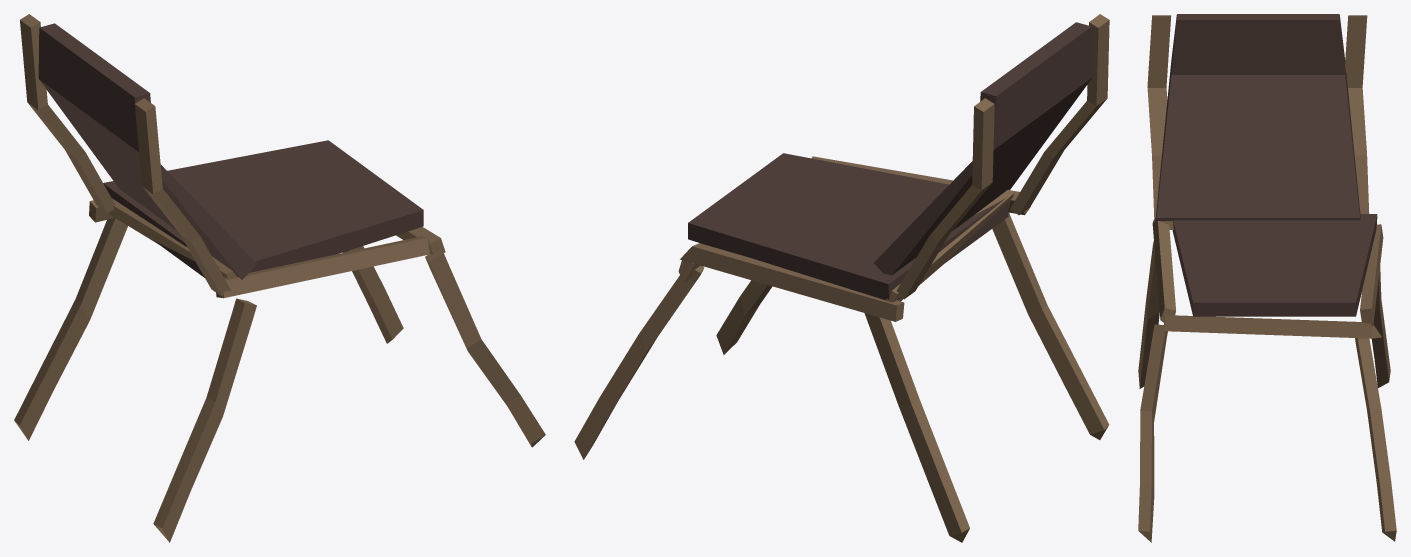
File: chair.fbx
3 renders of one model, left to right at view 1: azimuth 30°, elevation 25°; view 2: azimuth 150°, elevation 25°; view 3: azimuth 270°, elevation 25°, orthographic. The views are drawn at different scales.
Visible parts, largest first — view 1: Cube.050; view 2: Cube.050; view 3: Cube.050.
Boxes of the visible parts, x1,y1,x2,y2 form: Cube.050: [14, 14, 545, 542]; Cube.050: [574, 14, 1109, 542]; Cube.050: [1138, 14, 1396, 542].
Bounding box in the file's own units: 246 × 389 × 370.
